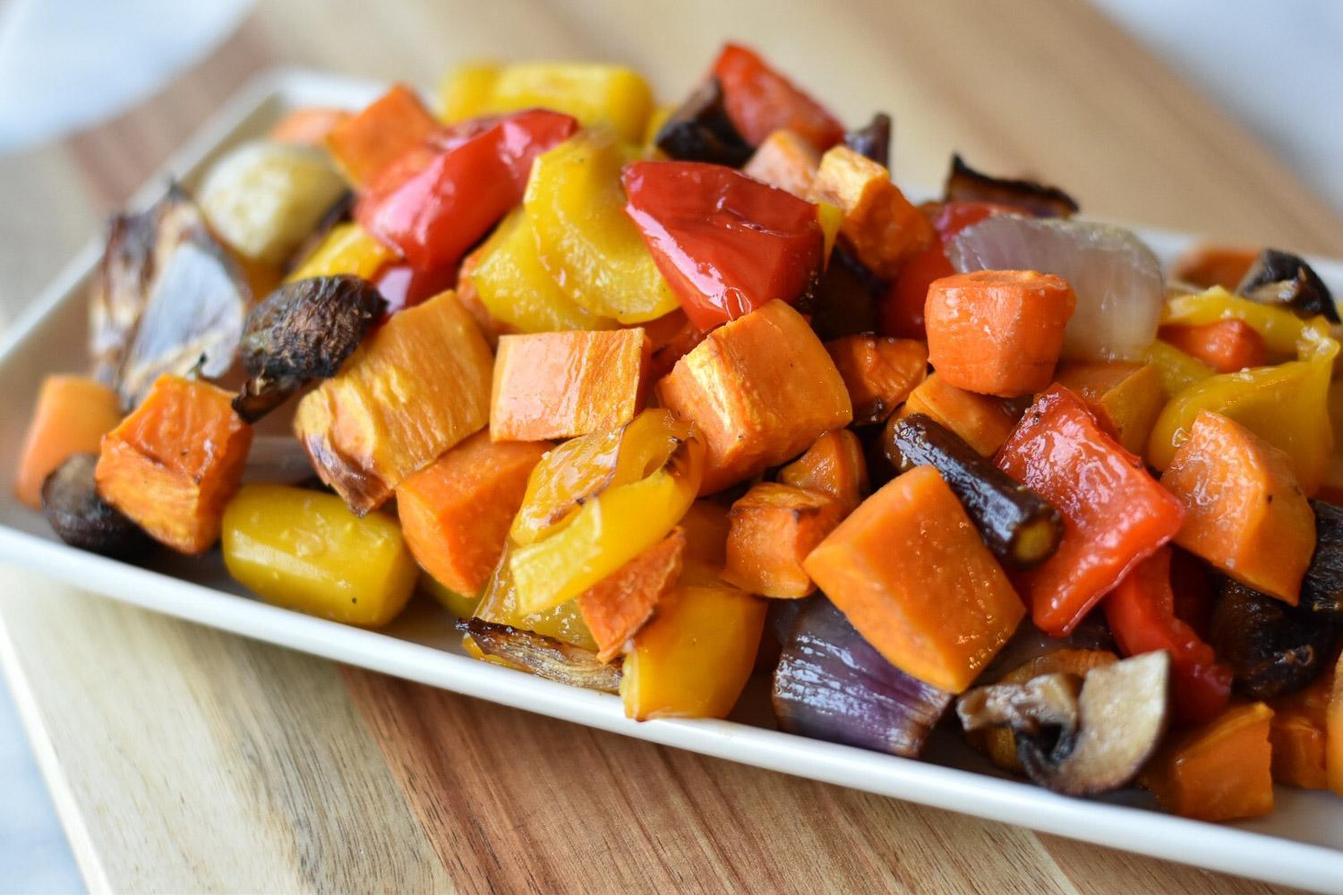bell pe: (446, 129, 823, 334)
carrot: (1153, 409, 1315, 605), (928, 267, 1077, 396)
